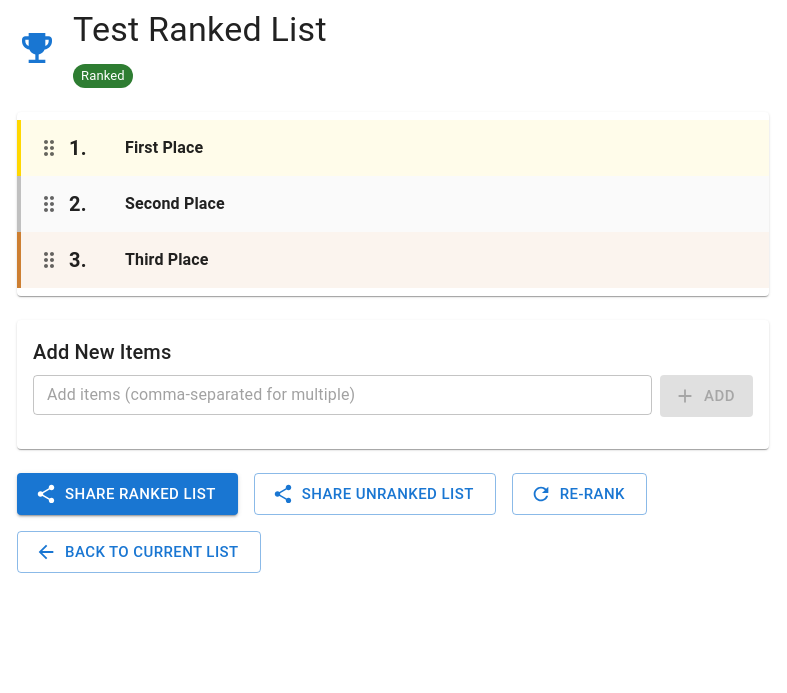
Test case: RankedResultView › Add New Items Section › adds item on Enter key press
In the field with placeholder "Add items (comma-separated for multiple)": (343, 395) [33,375,652,415], type "Another Item"
Then press Enter
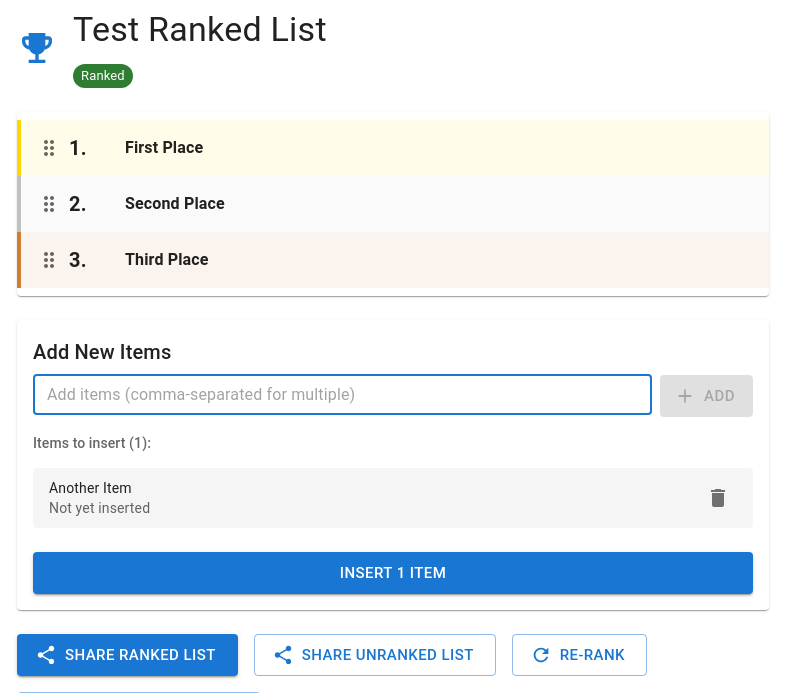
Result: the text "Another Item" is shown at [49,480,132,496]
